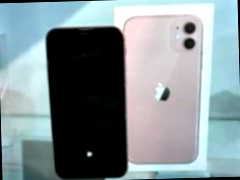iphone: (115, 26, 194, 178)
